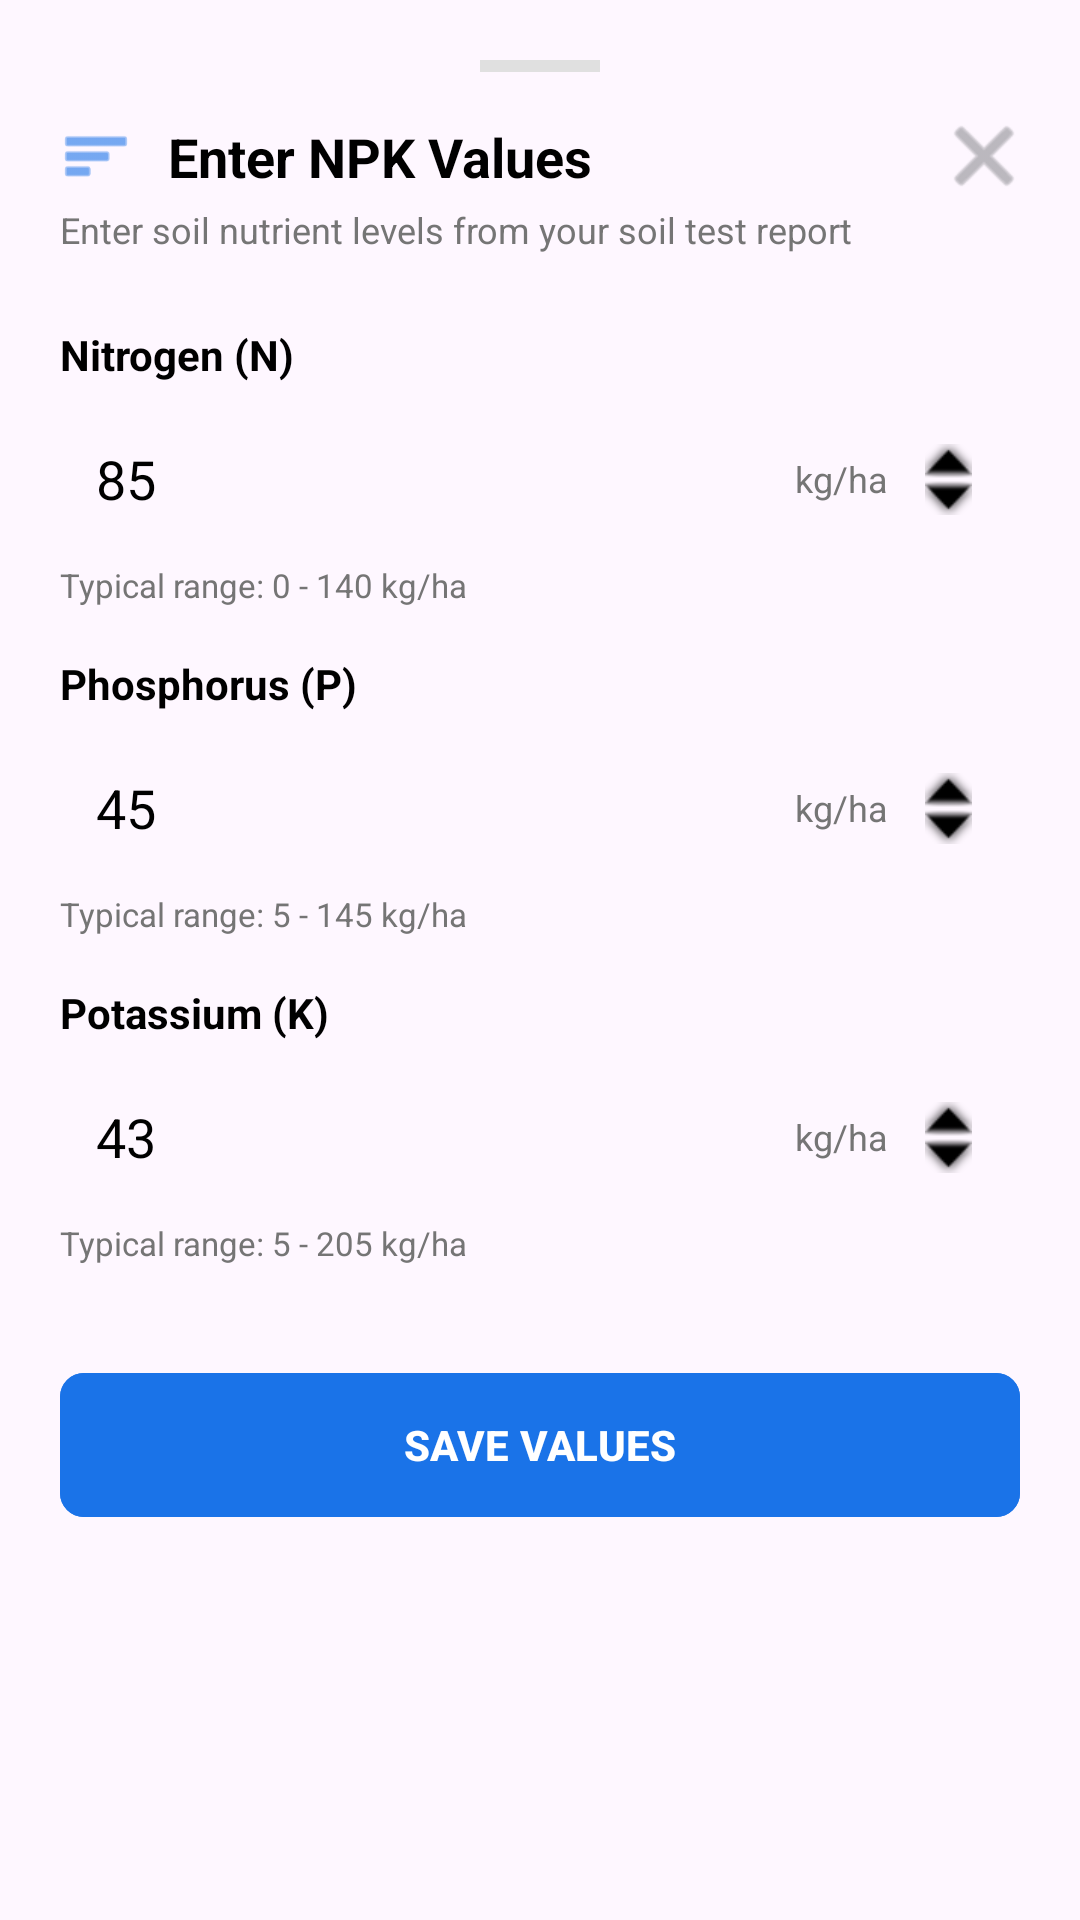

Icon bounding boxes for this 1080 x 1920 phone screenshot, format (x1, y1, x2, y2):
close clear cancel: (955, 127, 1013, 185)
sort by size: (65, 136, 127, 177)
